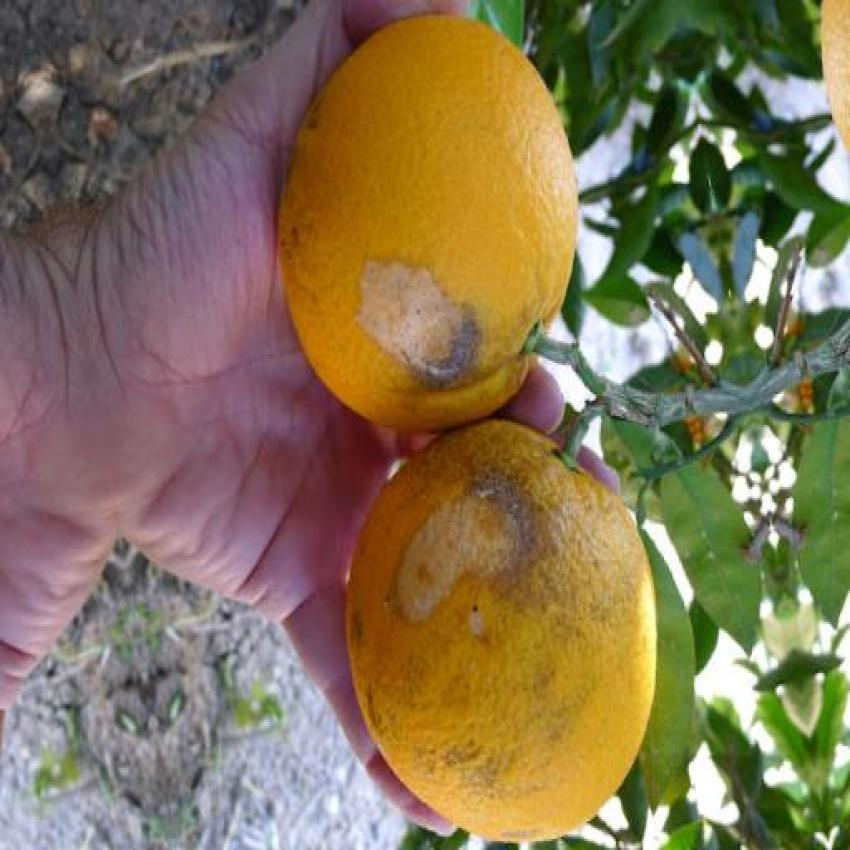Mal estado: (328, 417, 666, 842), (268, 15, 576, 446)
